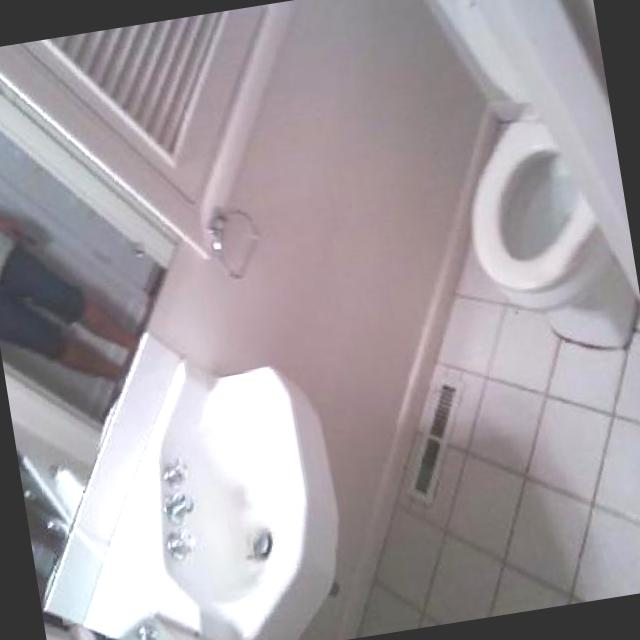Person: (0, 187, 146, 401)
